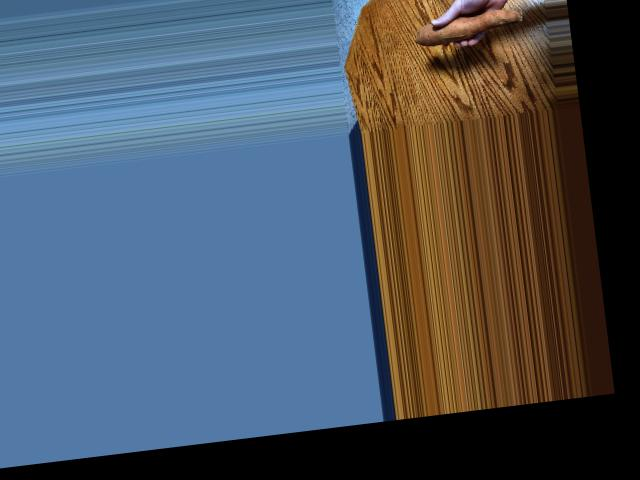sweet_potato: (410, 3, 530, 51)
